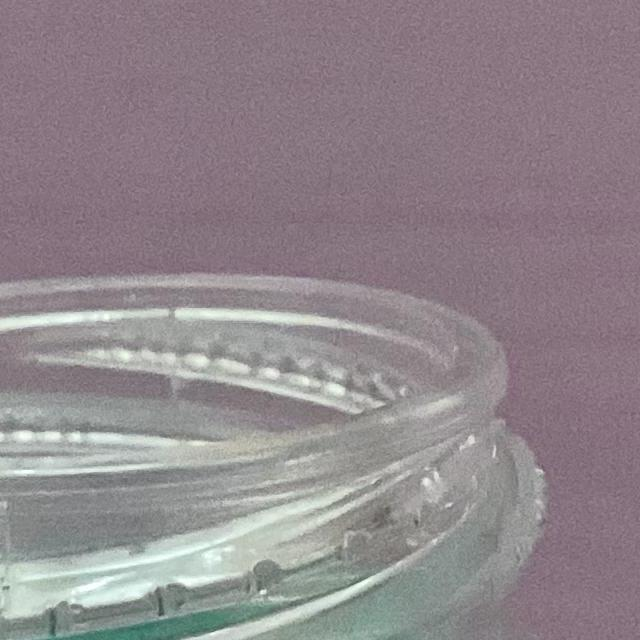open-cap: (0, 257, 619, 640)
